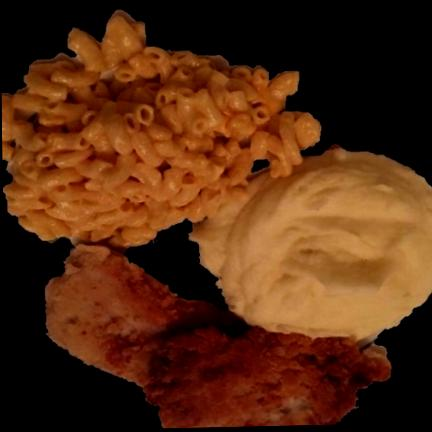chicken: (45, 245, 390, 429)
pasta: (1, 14, 321, 248)
potato: (190, 149, 432, 342)
